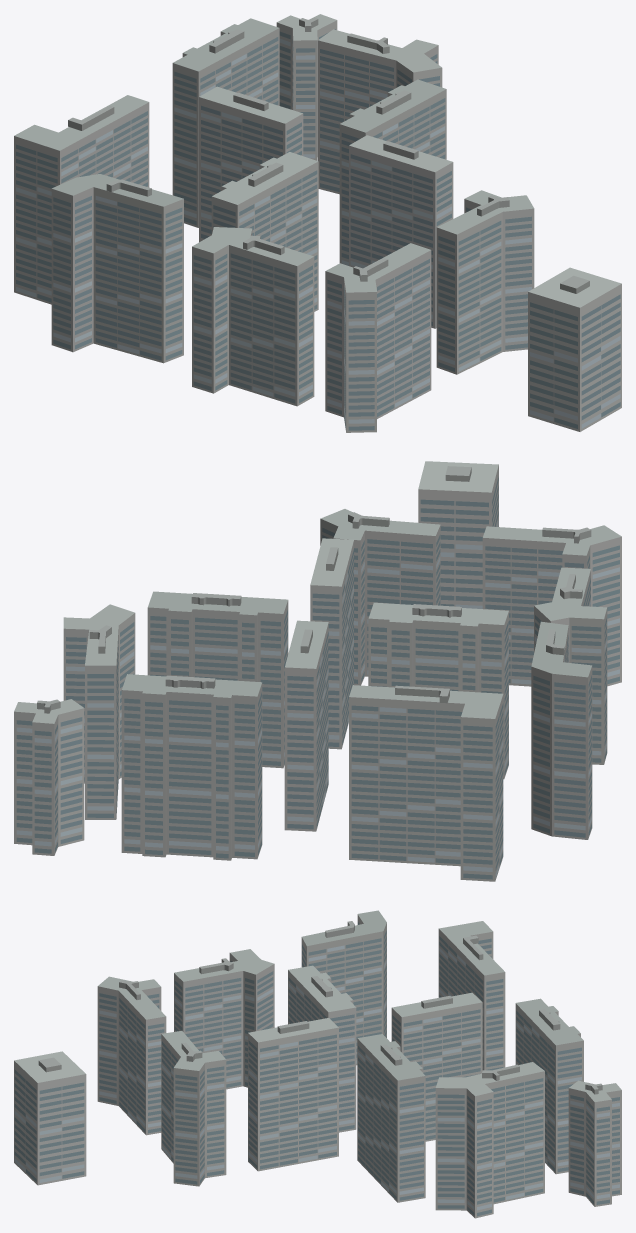
File: apt-a13592706.glb
3 views of the same model, one above another, from view 1: azimuth 30°, elevation 25°; view 2: azimuth 150°, elevation 25°; view 3: azimuth 270°, elevation 25° (orthographic). The views are drawn at different scales.
Parts seen in each view (by area): view 1: apt-a13592706; view 2: apt-a13592706; view 3: apt-a13592706.
Part boxes in pixels (left/top/right/bottom): apt-a13592706: left=14, top=14, right=621, bottom=432; apt-a13592706: left=14, top=461, right=621, bottom=881; apt-a13592706: left=14, top=910, right=621, bottom=1218.
Bounding box in the file's own units: 172 × 60 × 246.
